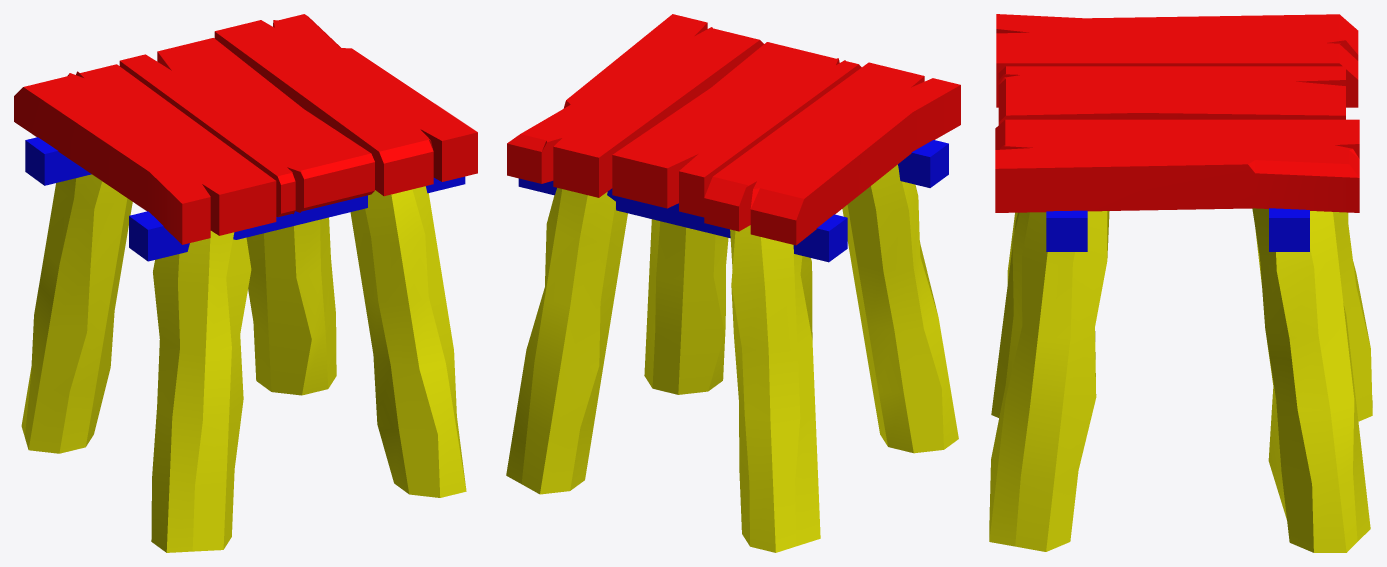
File: Stool1.fbx
3 renders of one model, left to right at view 1: azimuth 30°, elevation 25°; view 2: azimuth 150°, elevation 25°; view 3: azimuth 270°, elevation 25°, orthographic. The views are drawn at different scales.
Parts seen in each view (by area): view 1: pCube25; view 2: pCube25; view 3: pCube25.
Boxes of the visible parts, x1,y1,x2,y2 form: pCube25: [14, 14, 477, 552]; pCube25: [506, 14, 960, 552]; pCube25: [989, 14, 1372, 552].
Size of the model in its own units: 1.04 by 1.11 by 1.01.
